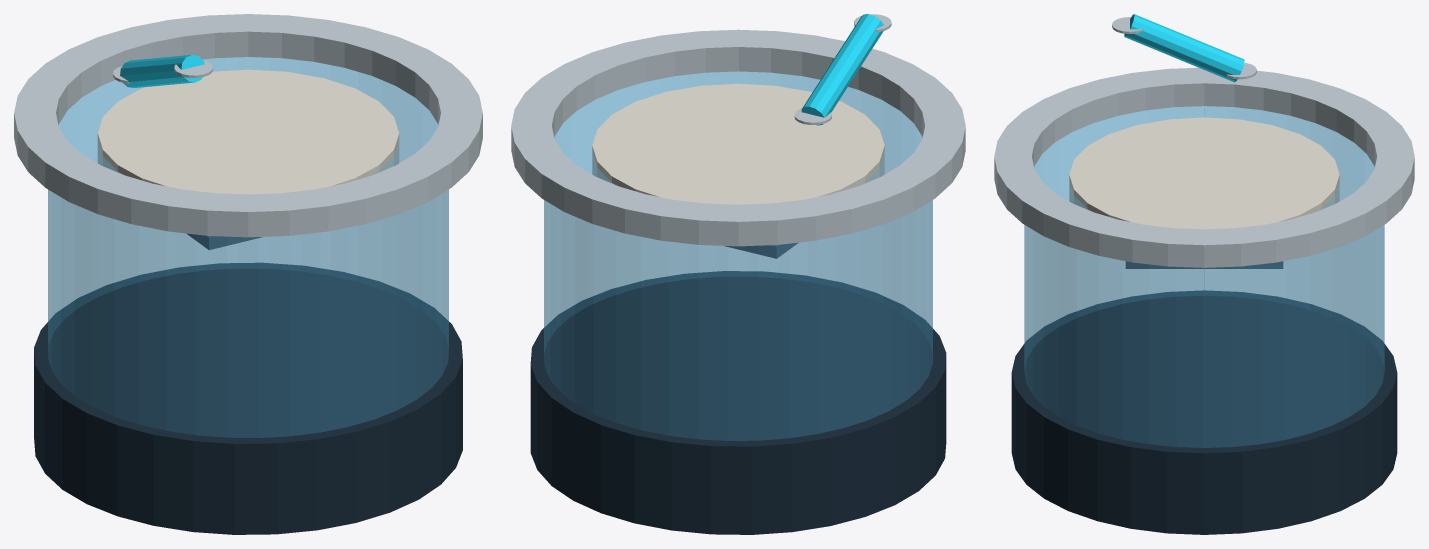
The model's file is 11_L78_CopperSurfacePreconditioningModule.fbx.
3 views of the same model, side by side, from view 1: azimuth 30°, elevation 25°; view 2: azimuth 150°, elevation 25°; view 3: azimuth 270°, elevation 25° (orthographic). The views are drawn at different scales.
Visible parts, largest first — view 1: CopperSurfacePreconditioningModule, CopperSurfacePreconditioningModule_Part_0007; view 2: CopperSurfacePreconditioningModule, CopperSurfacePreconditioningModule_Part_0007; view 3: CopperSurfacePreconditioningModule, CopperSurfacePreconditioningModule_Part_0007.
Part boxes in pixels (x1,y1,x2,y2): CopperSurfacePreconditioningModule: (14, 14, 482, 534); CopperSurfacePreconditioningModule_Part_0007: (187, 233, 262, 249); CopperSurfacePreconditioningModule: (511, 14, 965, 534); CopperSurfacePreconditioningModule_Part_0007: (725, 242, 797, 258); CopperSurfacePreconditioningModule: (994, 14, 1414, 534); CopperSurfacePreconditioningModule_Part_0007: (1125, 261, 1283, 268).
Size of the model in its own units: 168 by 175 by 168.
